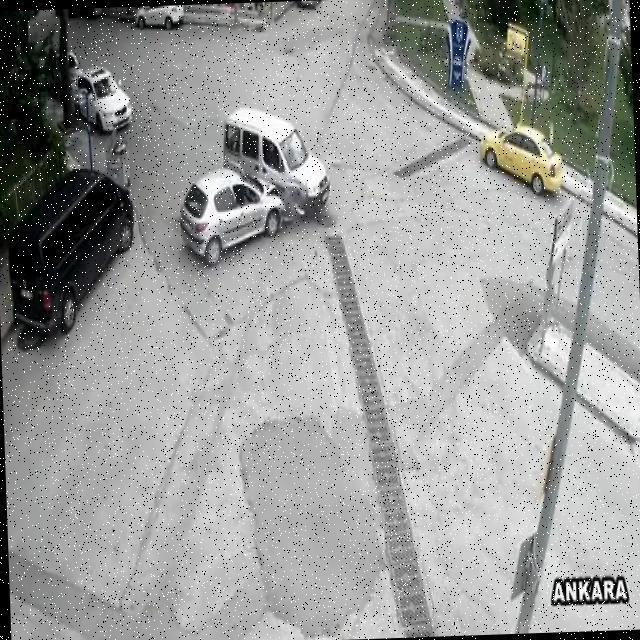accident: (170, 99, 332, 270)
